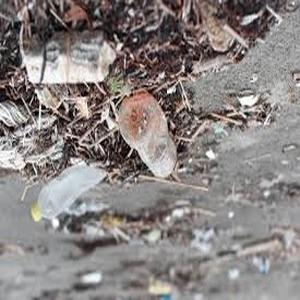Plastic: (117, 91, 184, 181), (25, 156, 108, 227)
